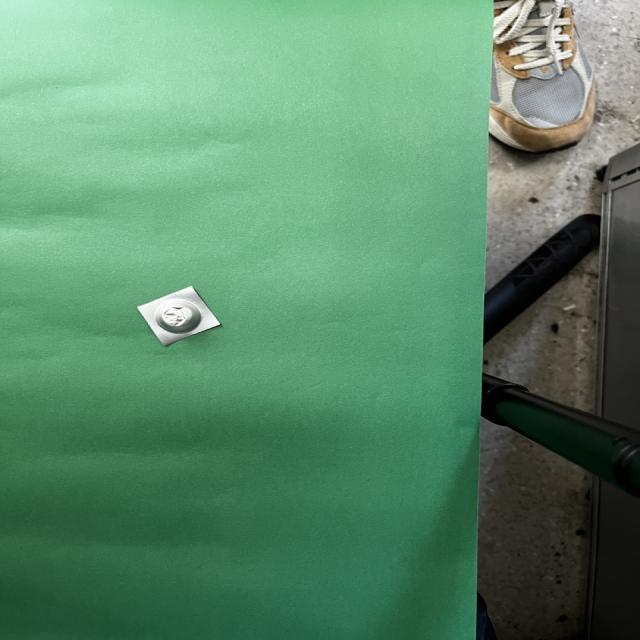Other Objects: (138, 286, 221, 346)
